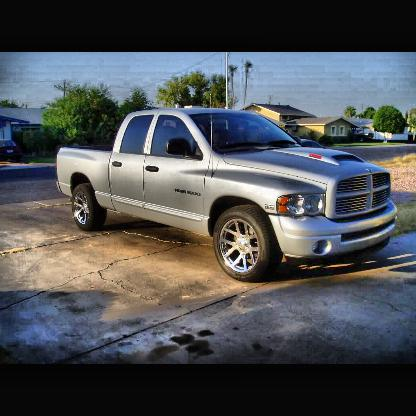Dodge Ram Pickup 3500 Quad Cab 2009: (55, 109, 403, 286)
